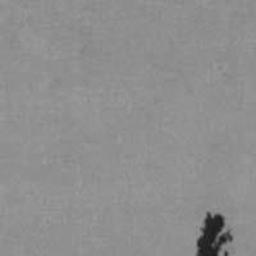Inclusion: (195, 211, 236, 256)
